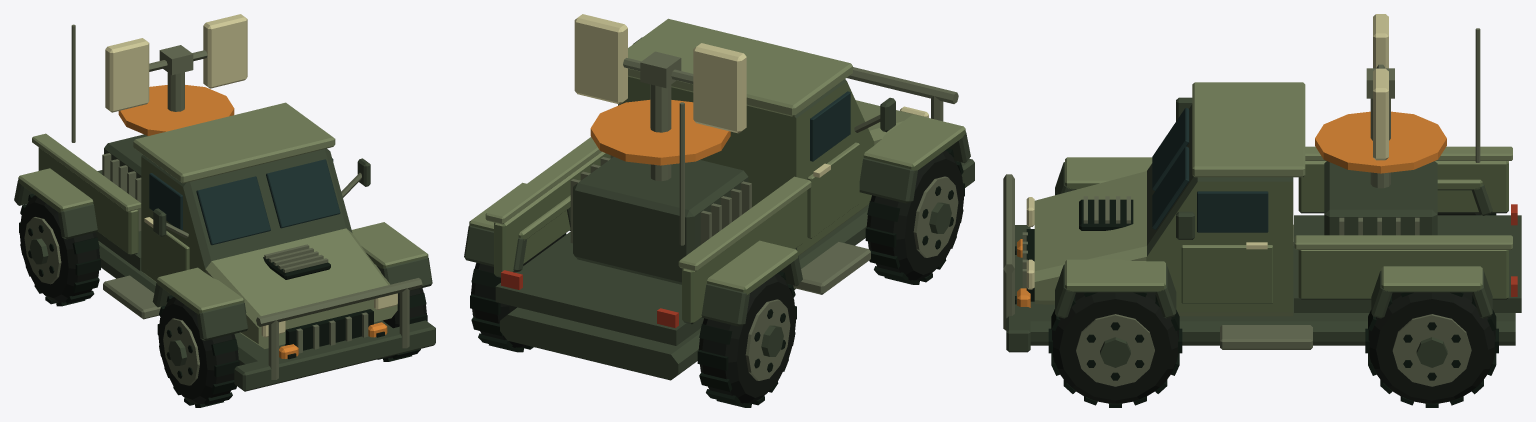
Rendered from jammerTruck_field.glb.
3 views of the same model, side by side, from view 1: azimuth 30°, elevation 25°; view 2: azimuth 150°, elevation 25°; view 3: azimuth 270°, elevation 25° (orthographic). The views are drawn at different scales.
Parts seen in each view (by area): view 1: Body, JammerHead, Wheel_-1_1.18, Wheel_-1_-1.17, JammerScan, Wheel_1_-1.17; view 2: Body, JammerHead, Wheel_-1_1.18, Wheel_-1_-1.17, JammerScan, Wheel_1_1.18; view 3: Body, Wheel_1_-1.17, Wheel_1_1.18, JammerScan, JammerHead.
Part boxes in pixels (bbox=[...]): Body: bbox=[14, 24, 435, 391]; JammerHead: bbox=[105, 14, 247, 112]; Wheel_-1_1.18: bbox=[19, 193, 100, 306]; Wheel_-1_-1.17: bbox=[157, 295, 239, 407]; JammerScan: bbox=[118, 85, 234, 135]; Wheel_1_-1.17: bbox=[377, 266, 427, 361]; Body: bbox=[464, 18, 974, 380]; JammerHead: bbox=[574, 14, 746, 133]; Wheel_-1_1.18: bbox=[697, 271, 796, 407]; Wheel_-1_-1.17: bbox=[865, 148, 964, 284]; JammerScan: bbox=[590, 100, 730, 165]; Wheel_1_1.18: bbox=[470, 233, 566, 352]; Body: bbox=[1003, 28, 1521, 352]; Wheel_1_-1.17: bbox=[1048, 292, 1182, 407]; Wheel_1_1.18: bbox=[1365, 292, 1498, 407]; JammerScan: bbox=[1315, 111, 1446, 173]; JammerHead: bbox=[1366, 14, 1394, 160].
Bounding box in the file's own units: 3.95 × 4.2 × 6.62.
1 material, 1 textured.
